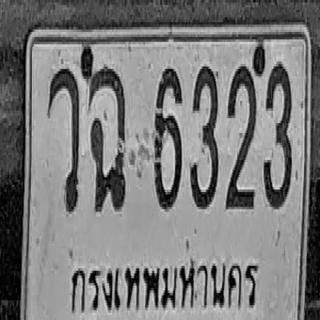A09: (86, 62, 126, 209)
A37: (47, 64, 80, 212)
N02: (226, 63, 263, 208), (226, 60, 256, 208)
N03: (263, 60, 292, 208), (190, 63, 218, 208)
N06: (154, 65, 182, 208)
P04: (69, 252, 261, 319)
